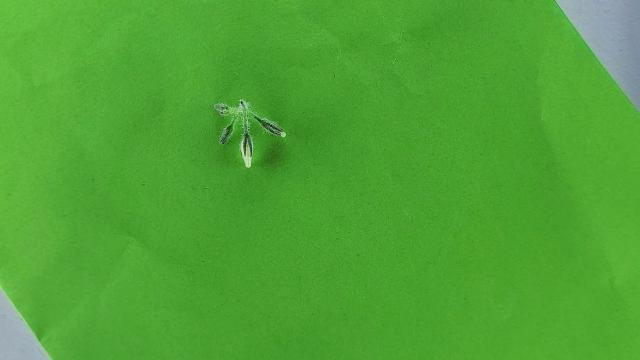Flower Bud: (256, 118, 285, 137), (241, 132, 253, 158), (219, 123, 233, 145), (213, 102, 234, 116)
